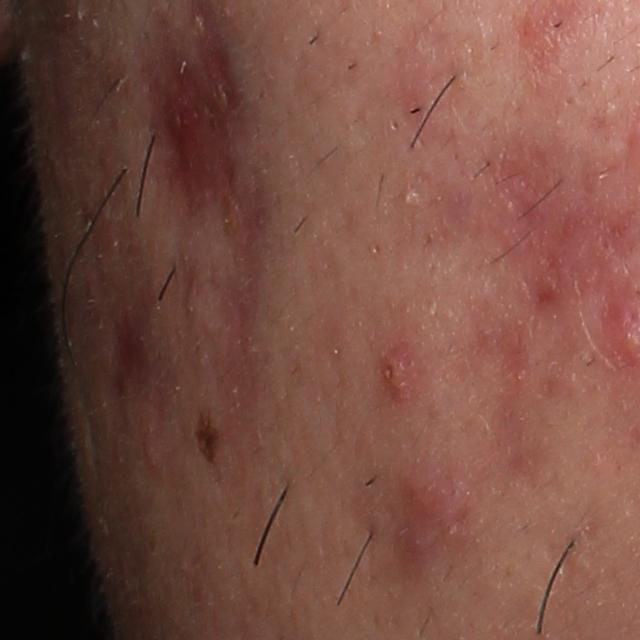atrophic_scar: (142, 10, 275, 369), (447, 307, 549, 492), (486, 150, 588, 302), (116, 318, 151, 386)
nevus: (193, 414, 222, 464)
papule: (400, 465, 456, 526), (380, 346, 417, 401)
